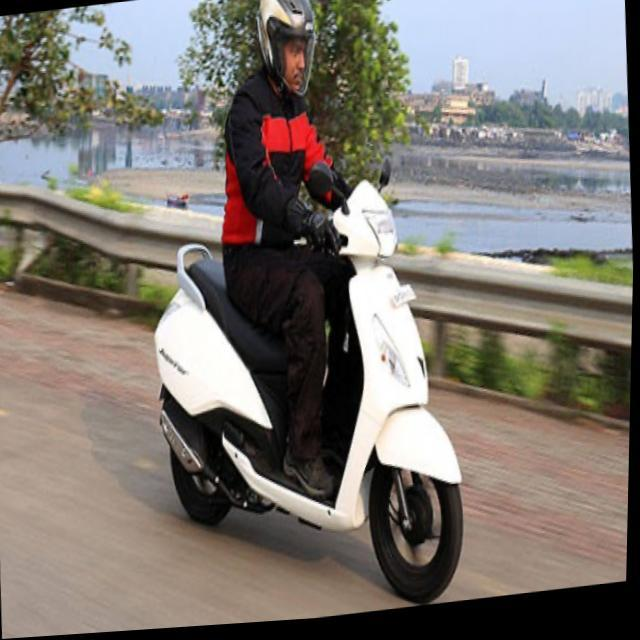Helmet: (240, 0, 334, 106)
